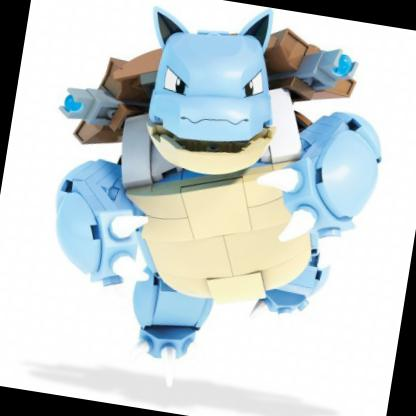Blastoise: (1, 1, 416, 393)
